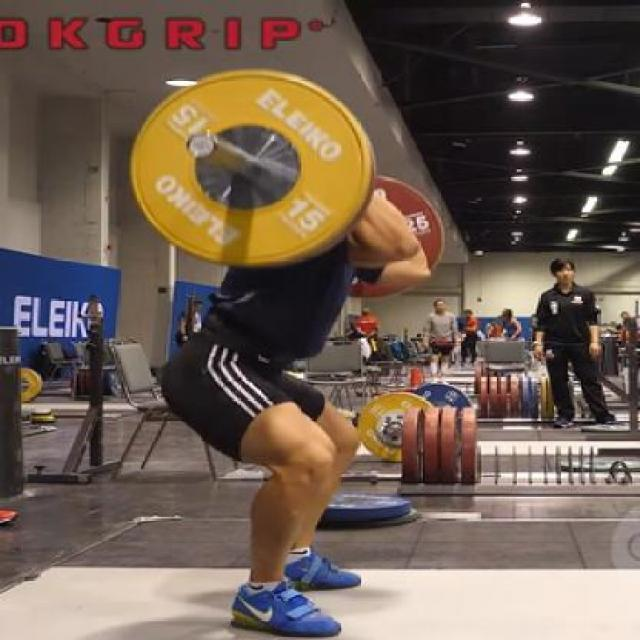Barbell: (181, 130, 222, 161)
